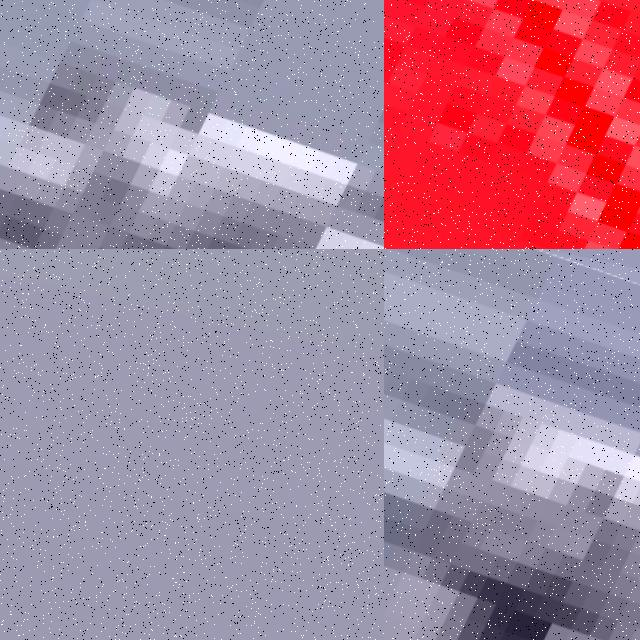0: (384, 249, 640, 640), (0, 0, 384, 249)
drone: (384, 0, 640, 249)
